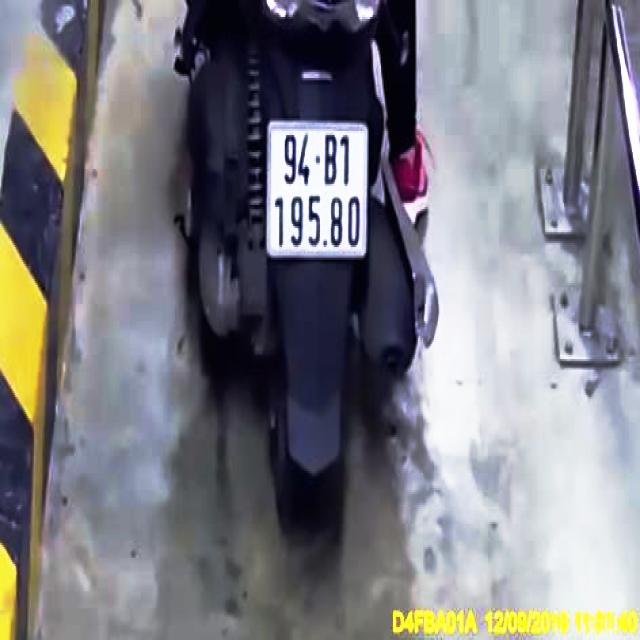license_plate: (267, 127, 368, 255)
